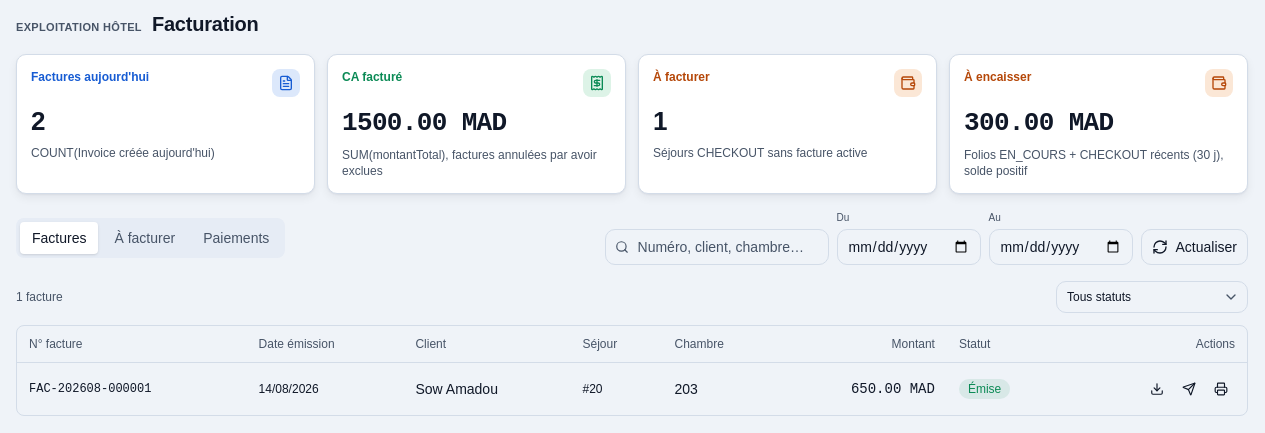
Scenario: BillingPage — onglets, KPI, recherche, RBAC › billing:send (sans billing:write) : bouton "Envoyer" visible dans le registre, "Générer facture" reste désactivé
This screenshot has width=1265, height=433.
Expected: the text "FAC-202608-000001" is shown, [17,362,247,414]
Expected: the button titled "Envoyer par email/WhatsApp" is shown, [1175,374,1203,402]
Click the tab "À facturer".
click(145, 238)  # box [102,222,187,254]
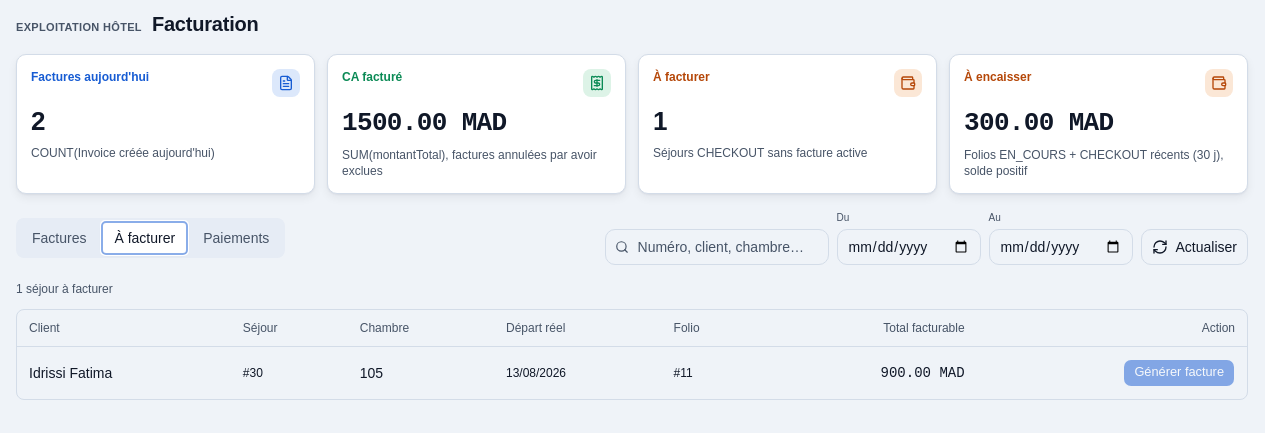
Result: the text "Idrissi Fatima" is shown at [17,346,231,398]
Result: the button "Générer facture" is disabled at [1123,358,1235,386]
